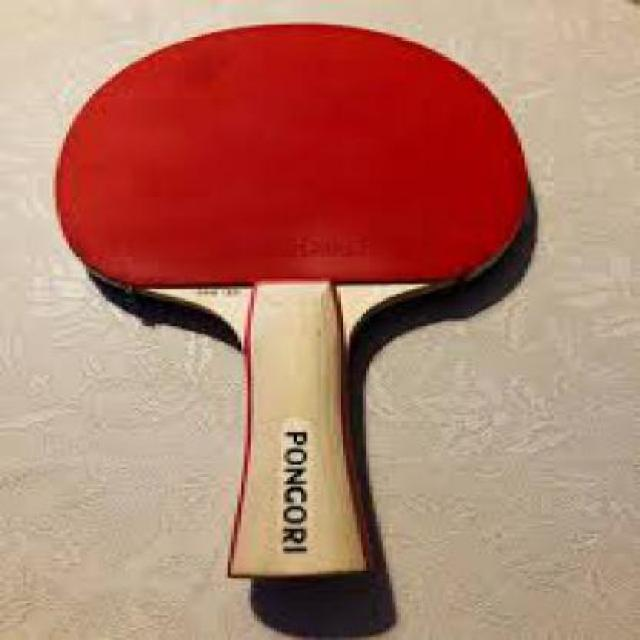table_tennis_racket: (33, 19, 530, 324)
